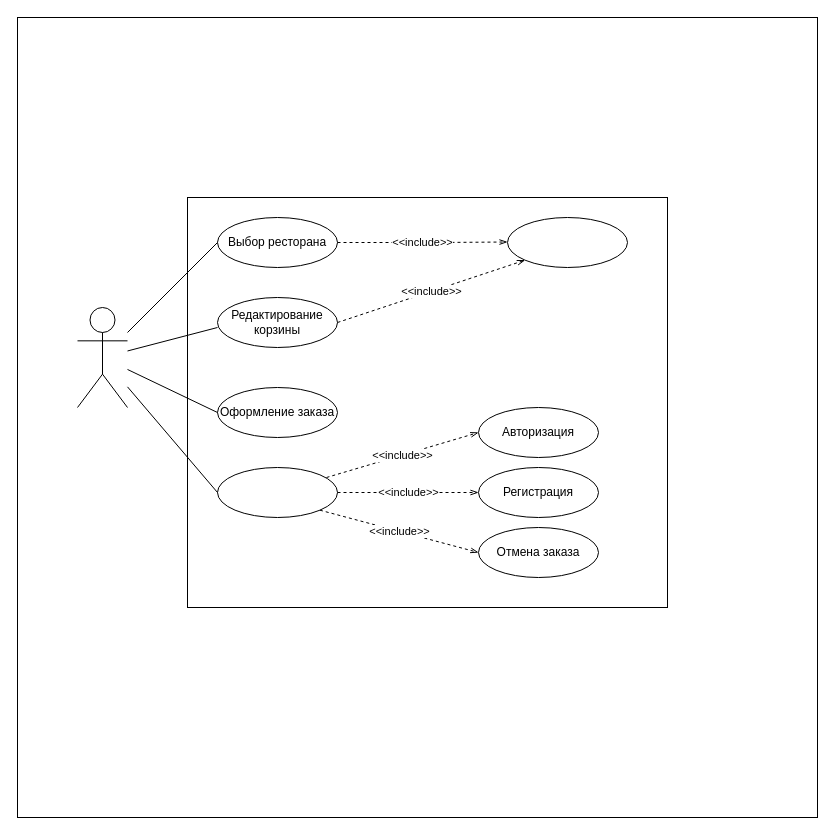
The diagram is 835 pixels wide and 835 high, and some of its shapes have lost their labels. The shapes that lost their labels are listed below. From the top down, each one's box as (x1, y1, x2, y2) in pixels, then its label:
(506, 216, 628, 268): Выбор блюд
(76, 306, 128, 408): User
(216, 466, 338, 518): Личный кабинет
